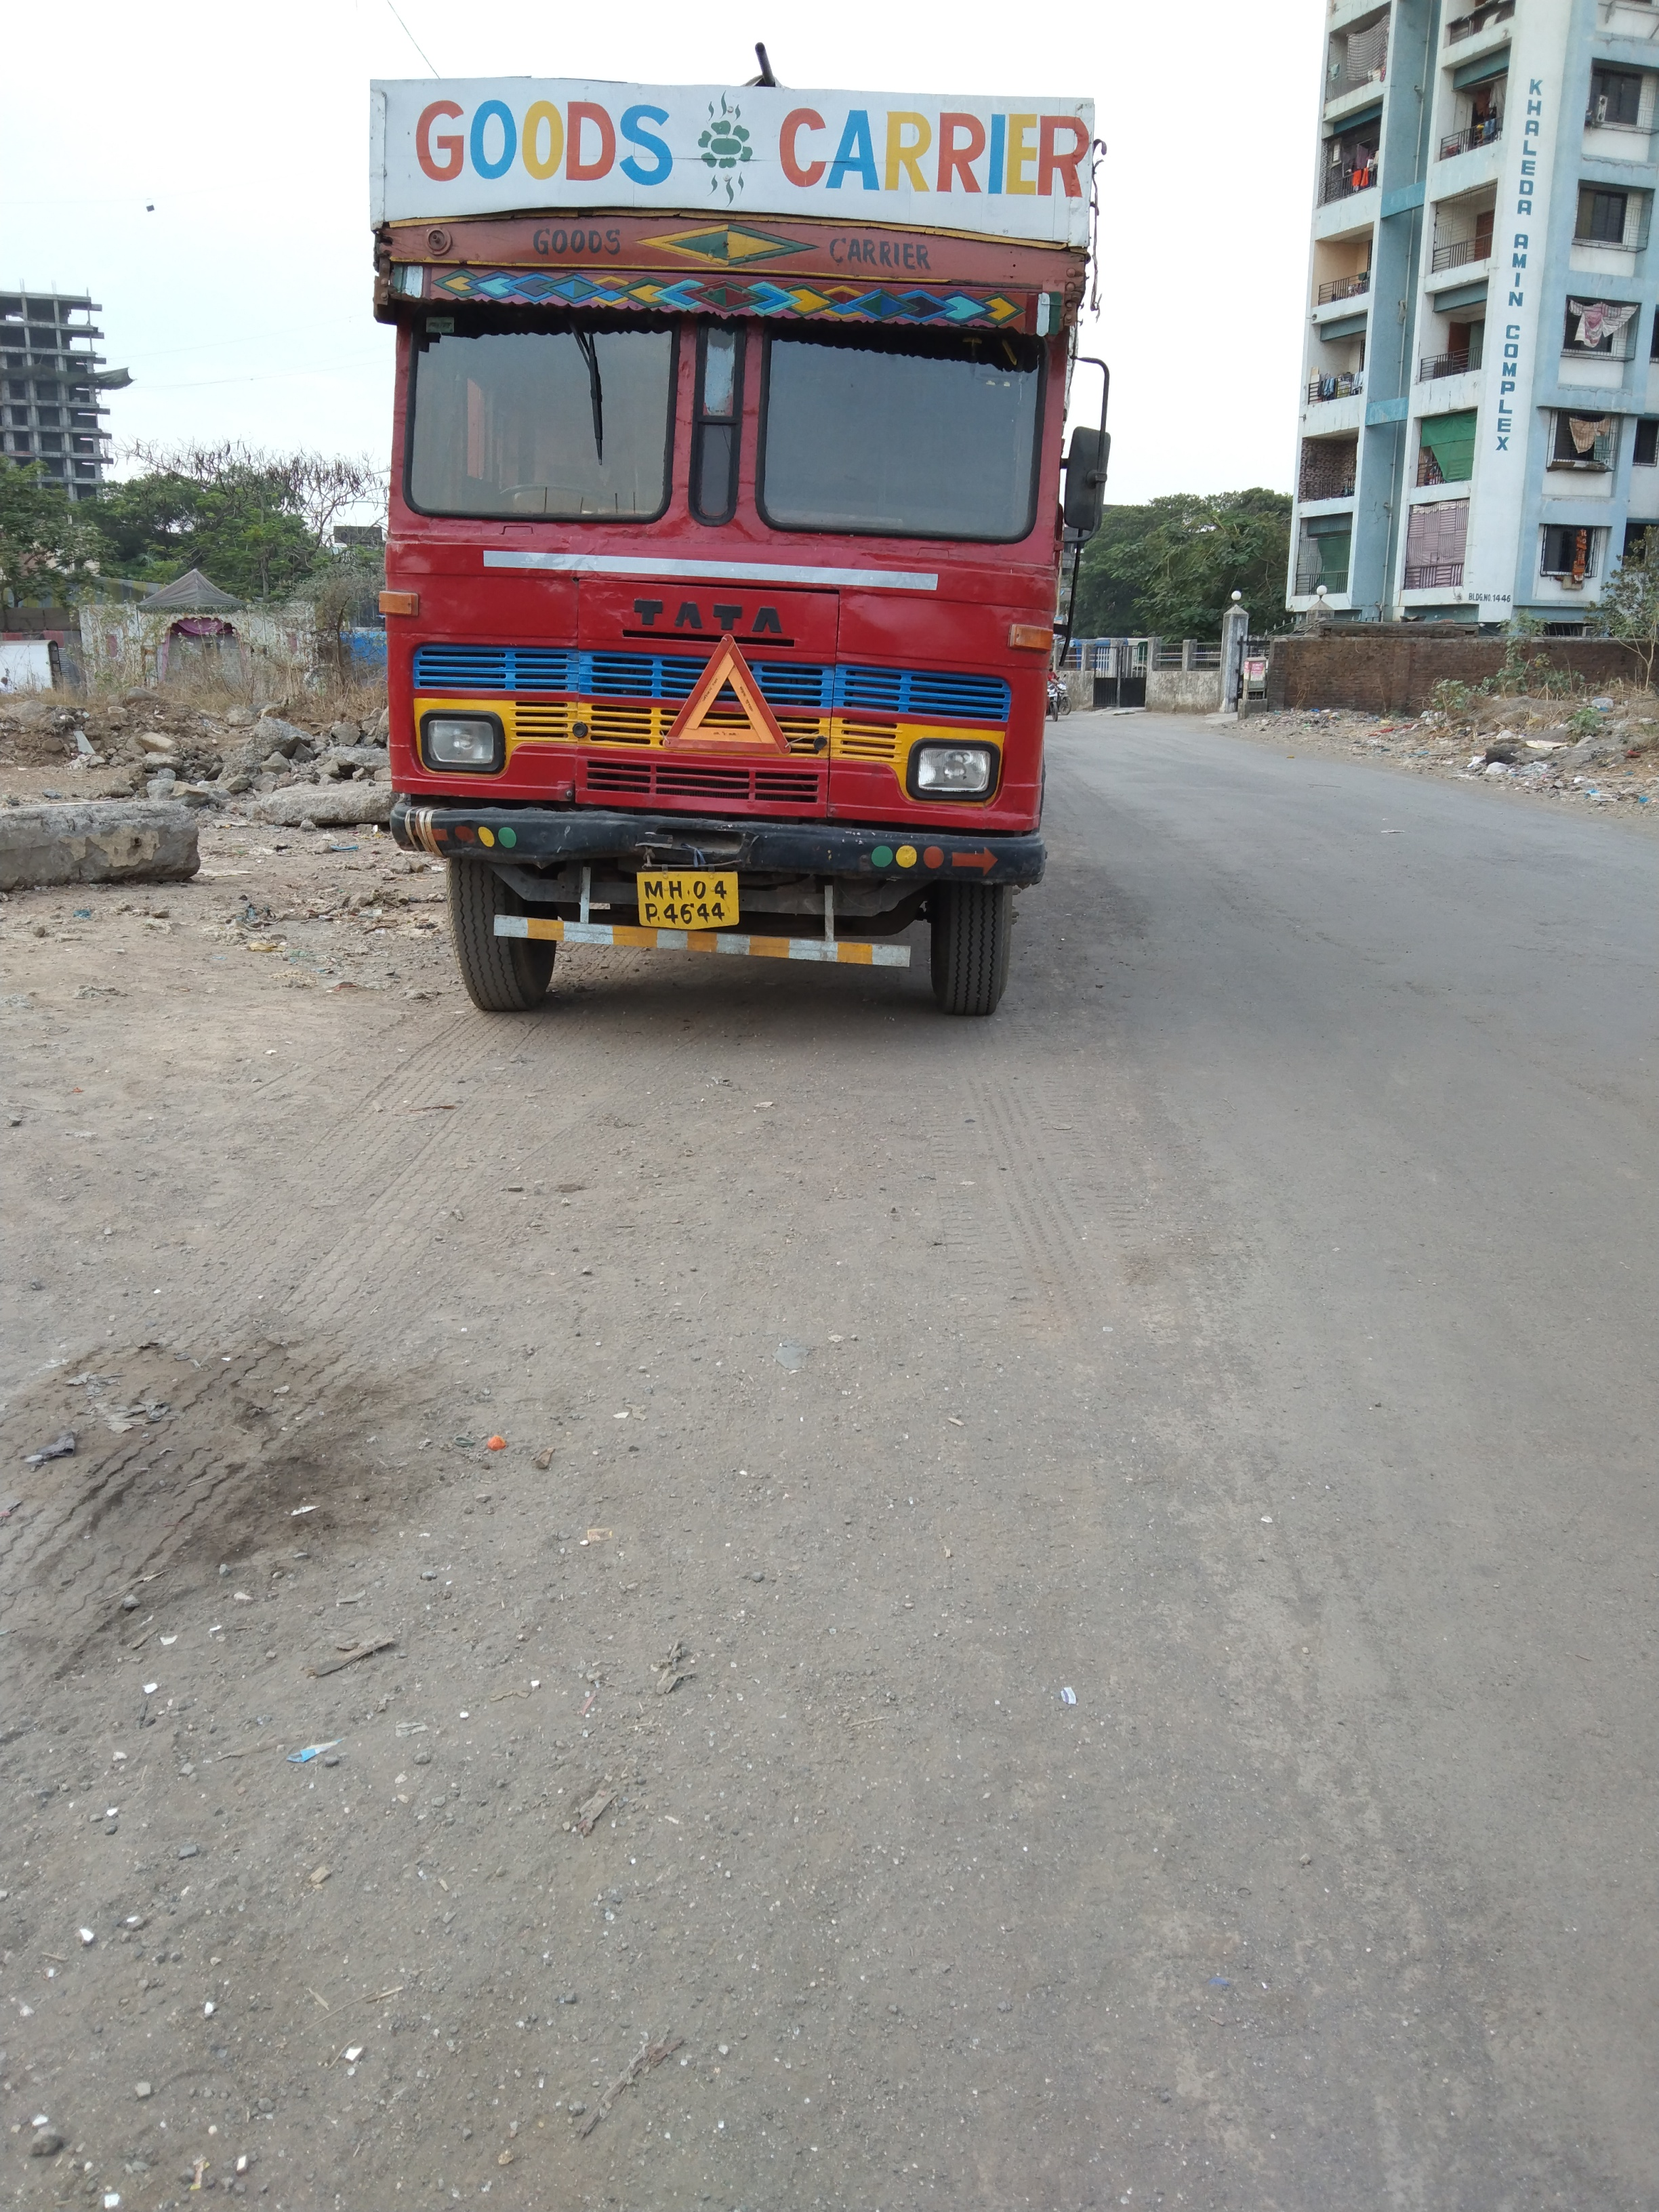truck: (366, 38, 1115, 1021)
